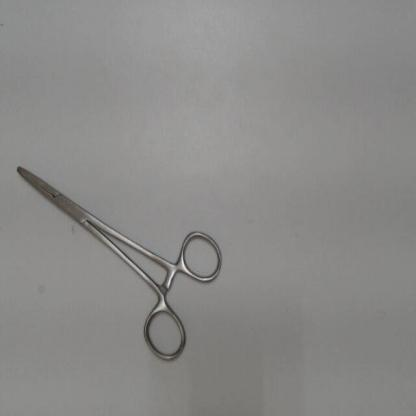Mayo Needle Holder: (6, 152, 230, 371)
